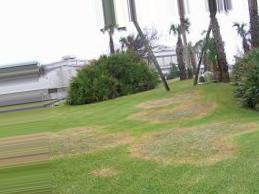patch: (133, 94, 227, 161), (53, 124, 125, 154)
